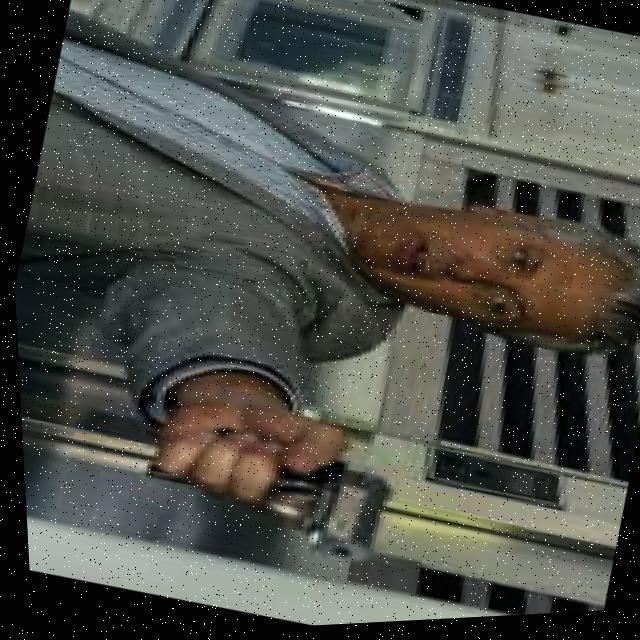pistol: (244, 443, 392, 575)
